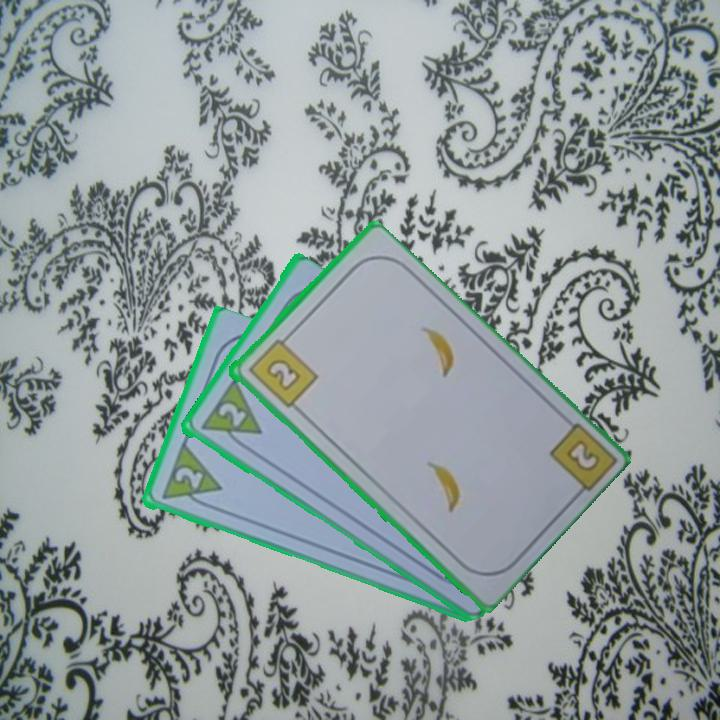2b: (244, 330, 320, 411), (562, 435, 603, 475)
2p: (196, 377, 265, 454), (157, 441, 224, 513)
